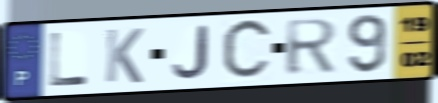9: (345, 13, 389, 75)
C: (220, 15, 276, 85)
J: (170, 23, 211, 81)
K: (102, 26, 146, 85)
L: (47, 31, 90, 89)
R: (284, 17, 341, 78)
